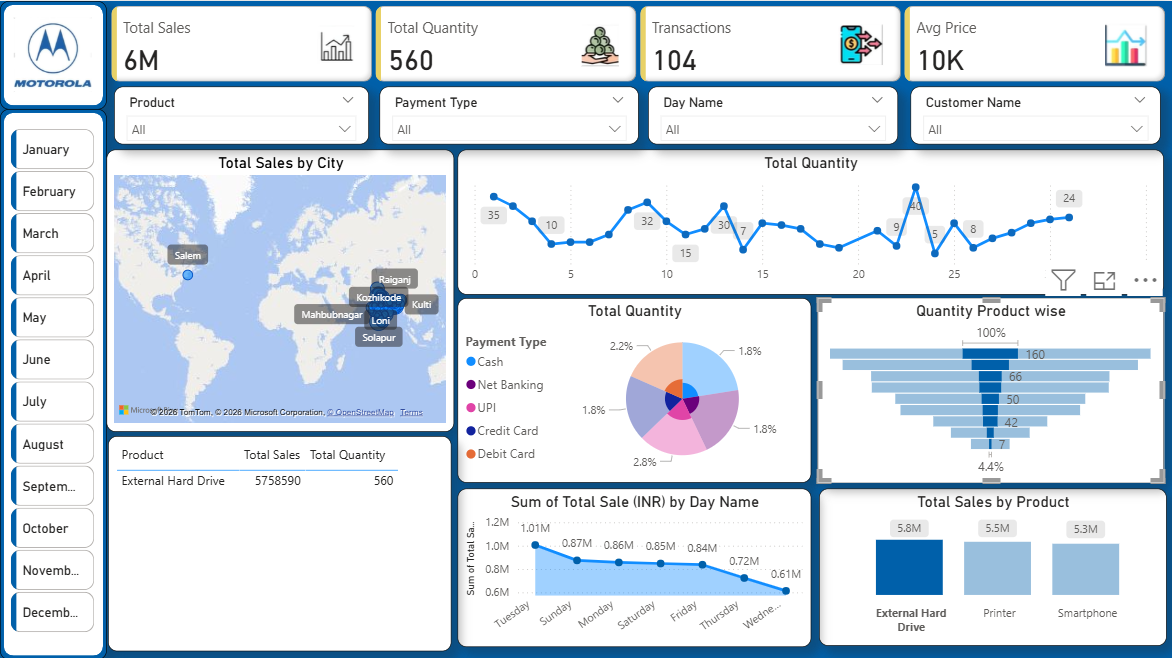

The dashboard page shown, as its layout file describes it:
{"tool":"powerbi","page":{"name":"Page 1","canvas":[1280,720],"ordinal":0},"visuals":[{"type":"shape","box":[0,0,116.7,118.3],"z":0},{"type":"image","box":[10,11.7,95,95],"z":1000},{"type":"shape","box":[0,118.3,116.7,601.7],"z":1001},{"type":"advancedSlicerVisual","fields":{"Values":["Sales_Data.Sales Date.Variation.Date Hierarchy.Month"]},"box":[6.7,135,101.7,570],"z":1002},{"type":"cardVisual","fields":{"Data":["Sales_Data.Total Sales","Sales_Data.Total Quantity","Sales_Data.Transactions","Sales_Data.Avg Price"]},"box":[116.7,0,1163.3,93.3],"z":1003},{"type":"map","fields":{"Category":["Sales_Data.City"],"Size":["Sales_Data.Total Sales"]},"box":[116.7,161.7,380,308.3],"z":1004},{"type":"lineChart","title":"Total Quantity","fields":{"Category":["Sales_Data.Sales Date.Variation.Date Hierarchy.Month","Sales_Data.Sales Date.Variation.Date Hierarchy.Day"],"Y":["Sales_Data.Total Quantity"]},"box":[500,161.7,771.7,158.3],"z":1005},{"type":"clusteredColumnChart","title":"Total Sales by Product","fields":{"Y":["Sum(Sales_Data.Total Sale (INR))"],"Category":["Sales_Data.Product"]},"box":[895,533.3,380,171.7],"z":1006},{"type":"pieChart","title":"Total Quantity","fields":{"Category":["Sales_Data.Payment Type"],"Y":["Sales_Data.Transactions"]},"box":[500,325,386.7,201.7],"z":1007},{"type":"funnel","title":"Quantity Product wise","fields":{"Category":["Sales_Data.Quantity"],"Y":["Sum(Sales_Data.Quantity)"]},"box":[893.3,325,378.3,201.7],"z":1008},{"type":"areaChart","fields":{"Category":["Sales_Data.Day Name"],"Y":["Sum(Sales_Data.Total Sale (INR))"]},"box":[500,533.3,386.7,173.3],"z":1009},{"type":"tableEx","title":"Total Quantity","fields":{"Values":["Sales_Data.Product","Sales_Data.Total Sales","Sales_Data.Total Quantity"]},"box":[118.3,475,375,235],"z":1010},{"type":"slicer","fields":{"Values":["Sales_Data.Product"]},"box":[125,93.3,278.3,63.3],"z":1011},{"type":"slicer","fields":{"Values":["Sales_Data.Payment Type"]},"box":[415,93.3,283.3,63.3],"z":1012},{"type":"slicer","fields":{"Values":["Sales_Data.Day Name"]},"box":[708.3,93.3,273.3,63.3],"z":1013},{"type":"slicer","fields":{"Values":["Sales_Data.Customer Name"]},"box":[995,93.3,273.3,63.3],"z":1014}]}

Visuals, with their boxes in screenshot pixels (x1, y1, x2, y2), scaled from the page's 1280x720 canvas onto the 1172x658 screenshot:
shape: (x1=0, y1=0, x2=107, y2=108)
image: (x1=9, y1=11, x2=96, y2=98)
shape: (x1=0, y1=108, x2=107, y2=657)
advancedSlicerVisual - Sales_Data.Sales Date.Variation.Date Hierarchy.Month: (x1=6, y1=123, x2=99, y2=644)
cardVisual - Sales_Data.Total Sales x Sales_Data.Total Quantity: (x1=107, y1=0, x2=1171, y2=85)
map - Sales_Data.City x Sales_Data.Total Sales: (x1=107, y1=148, x2=455, y2=430)
"Total Quantity" lineChart: (x1=458, y1=148, x2=1164, y2=292)
"Total Sales by Product" clusteredColumnChart: (x1=819, y1=487, x2=1167, y2=644)
"Total Quantity" pieChart: (x1=458, y1=297, x2=812, y2=481)
"Quantity Product wise" funnel: (x1=818, y1=297, x2=1164, y2=481)
areaChart - Sales_Data.Day Name x Sum(Sales_Data.Total Sale (INR)): (x1=458, y1=487, x2=812, y2=646)
"Total Quantity" tableEx: (x1=108, y1=434, x2=452, y2=649)
slicer - Sales_Data.Product: (x1=114, y1=85, x2=369, y2=143)
slicer - Sales_Data.Payment Type: (x1=380, y1=85, x2=639, y2=143)
slicer - Sales_Data.Day Name: (x1=649, y1=85, x2=899, y2=143)
slicer - Sales_Data.Customer Name: (x1=911, y1=85, x2=1161, y2=143)
